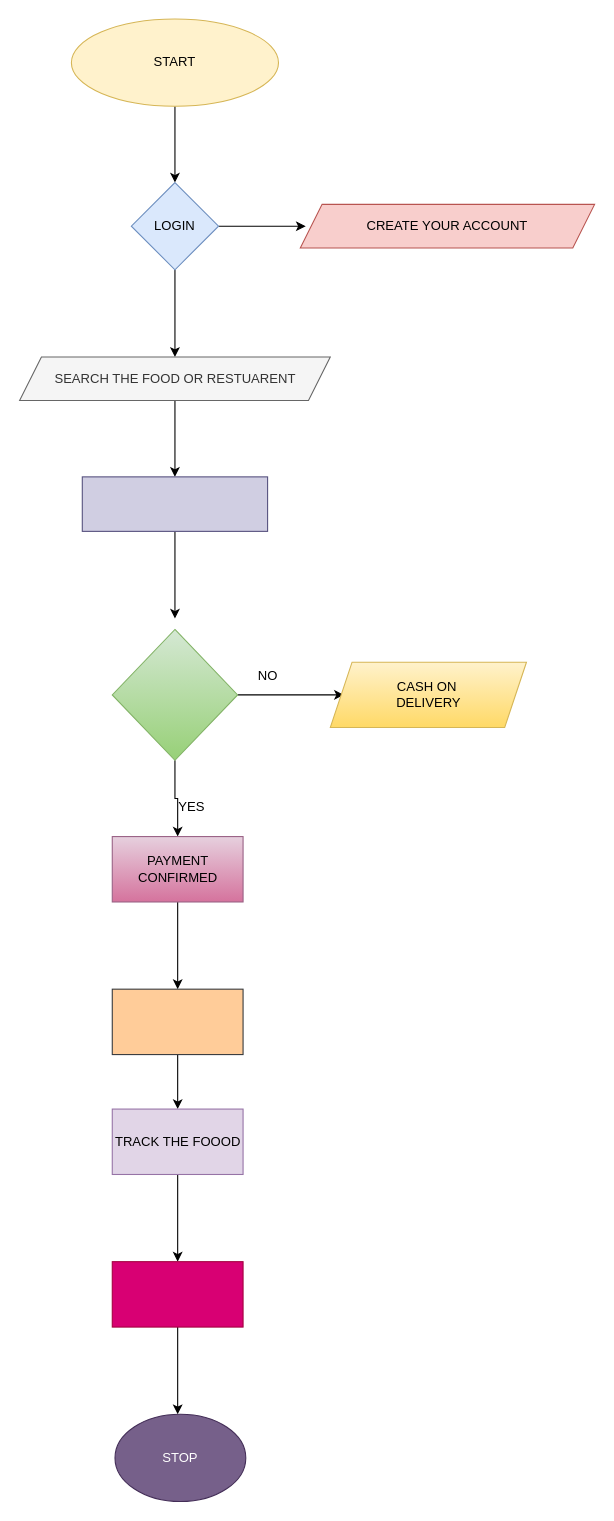
This 614x1521 diagram has some shape labels left out. Here are the shapes that lost their labels. From the top down, the centre of each, then its label:
At [174,503]: "ORDER THE FOOD".
At [174,694]: "PAYMENT THROUGH ONLINE".
At [177,1021]: "ORDER CONFIRMED".
At [177,1294]: "FOOD DELIVERED".
